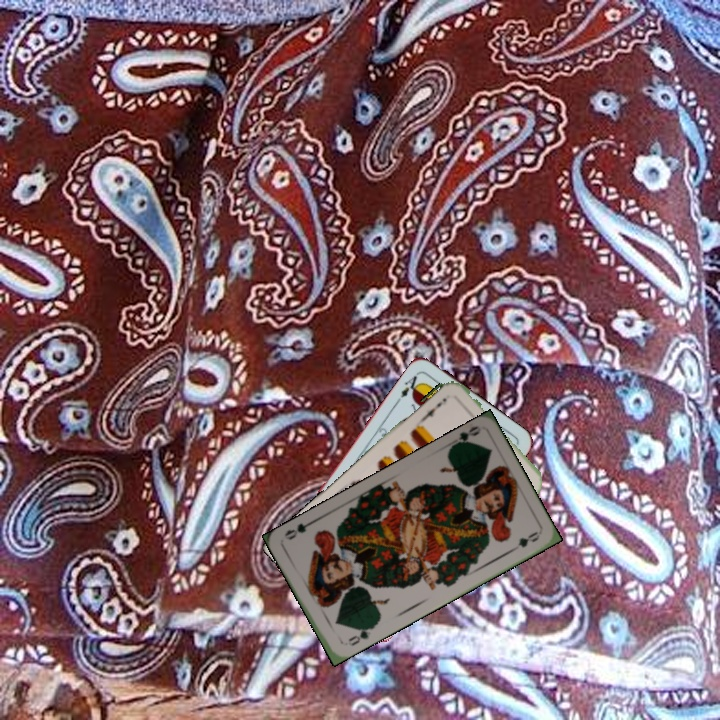E7: (419, 394, 449, 422)
EA: (396, 369, 424, 401)
GO: (447, 422, 483, 451), (344, 623, 376, 649)
